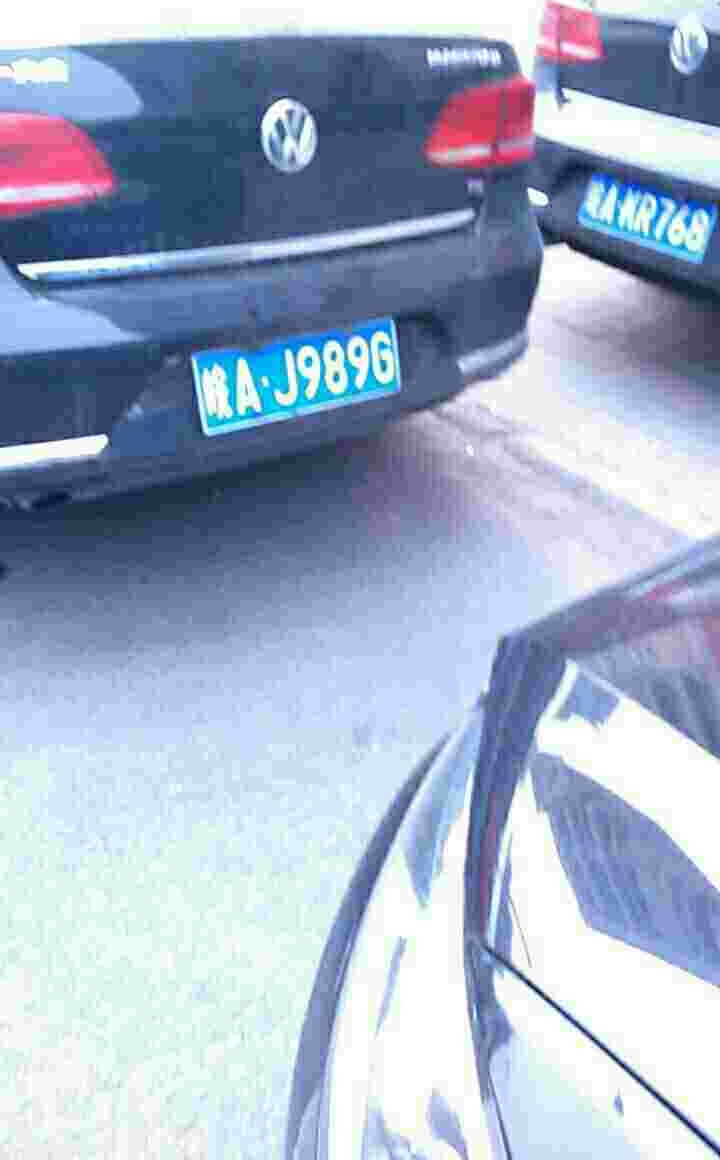plate: (203, 310, 409, 436)
